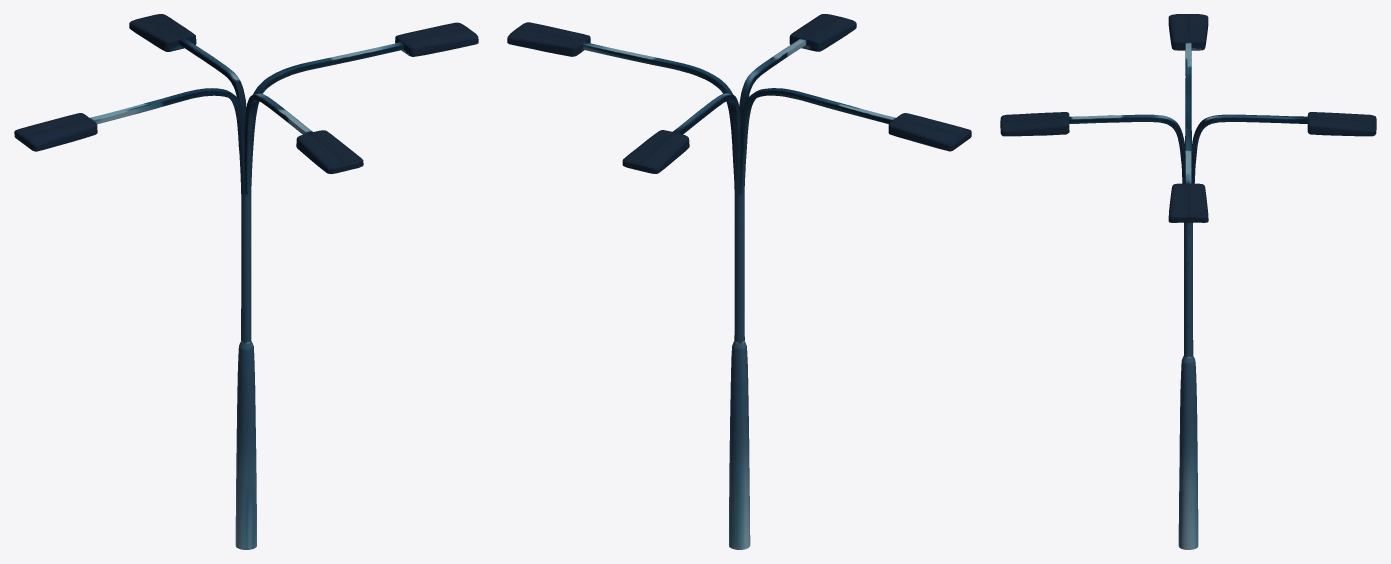
The model's file is lighting - copia.fbx.
3 views of the same model, side by side, from view 1: azimuth 30°, elevation 25°; view 2: azimuth 150°, elevation 25°; view 3: azimuth 270°, elevation 25° (orthographic). The views are drawn at different scales.
Parts seen in each view (by area): view 1: tripo_node_7cbc18a7; view 2: tripo_node_7cbc18a7; view 3: tripo_node_7cbc18a7.
Boxes of the visible parts, x1,y1,x2,y2 form: tripo_node_7cbc18a7: (14, 14, 478, 549); tripo_node_7cbc18a7: (507, 14, 971, 549); tripo_node_7cbc18a7: (1000, 14, 1376, 549).
Size of the model in its own units: 1 by 0.9987 by 0.7834.
Materials: 1 (1 with a texture image).
